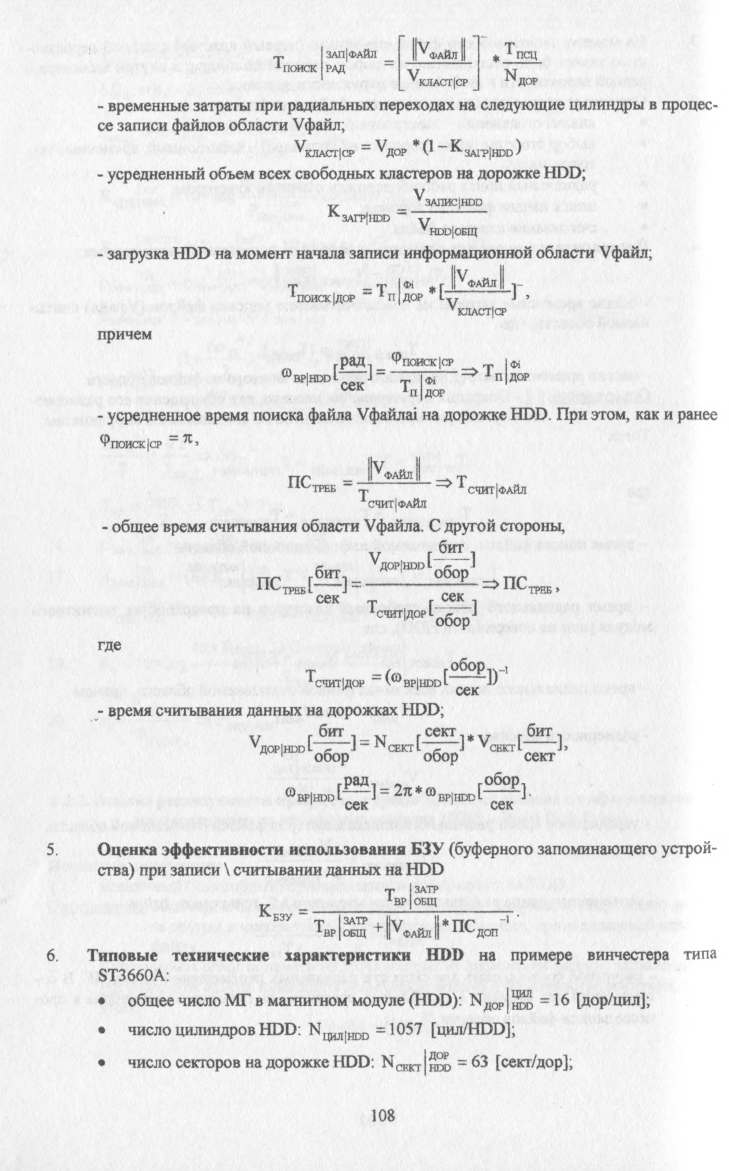K.бзу: (255, 896, 295, 925)
K.загр.HDD: (325, 197, 391, 226), (452, 134, 513, 158)
N.дор: (501, 68, 542, 87)
N.сект: (374, 731, 414, 757)
T.вр.затр.общ: (381, 879, 444, 908), (313, 914, 372, 941)
T.п.Фi.дор: (372, 273, 426, 306), (391, 375, 453, 402)
T.поиск.дор: (285, 279, 356, 306)
T.поиск.зап.файл.рад: (271, 47, 379, 77)
T.псц: (505, 33, 539, 60)
T.счит.дор: (303, 662, 366, 693), (362, 596, 428, 623)
T.счит.файл: (356, 487, 431, 509)
V.HDD.общ: (417, 217, 482, 238)
V.дор: (372, 133, 407, 161)
V.дор.HDD: (367, 548, 428, 575), (246, 731, 306, 758)
V.запис.HDD: (415, 188, 483, 210)
V.класт.ср: (406, 67, 470, 92), (443, 296, 509, 319), (295, 137, 354, 159)
V.сект: (475, 731, 515, 757)
V.файл: (391, 916, 432, 944), (456, 265, 498, 289), (372, 457, 412, 480), (418, 37, 461, 58)
group: (249, 540, 478, 630), (250, 877, 516, 947), (267, 32, 546, 92), (243, 719, 570, 767), (283, 262, 527, 322), (273, 343, 461, 402), (320, 186, 491, 242), (302, 656, 511, 699), (283, 453, 434, 512), (292, 133, 523, 162)
φ.поиск.ср: (389, 344, 457, 369)
ω.вр.HDD: (276, 364, 330, 386), (388, 670, 441, 691)
ПС.доп: (453, 917, 500, 939)
ПС.треб: (254, 557, 307, 604), (287, 471, 336, 494)
